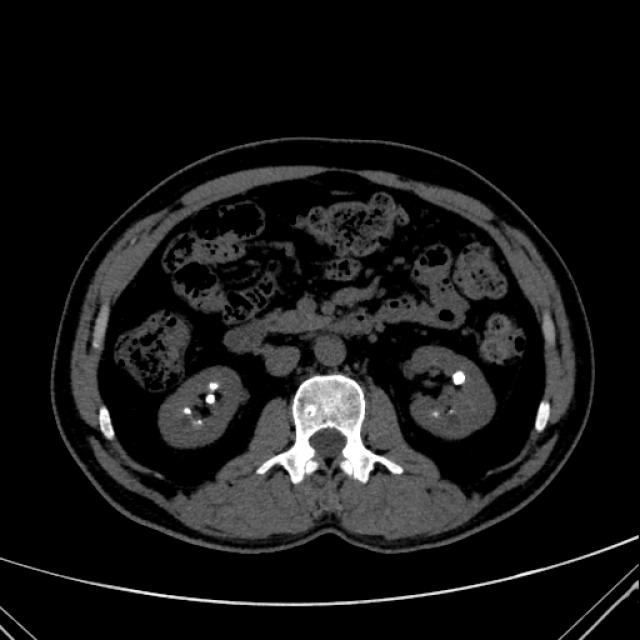kidneystone: (454, 372, 465, 384), (448, 405, 458, 414), (205, 395, 215, 403), (209, 382, 217, 390), (195, 419, 202, 426), (184, 408, 191, 415)
